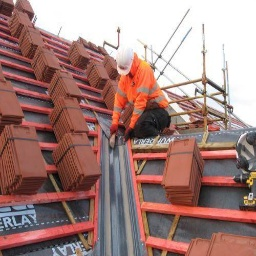helmet: (113, 45, 139, 81)
person: (107, 42, 178, 150)
vest: (110, 76, 177, 113)
